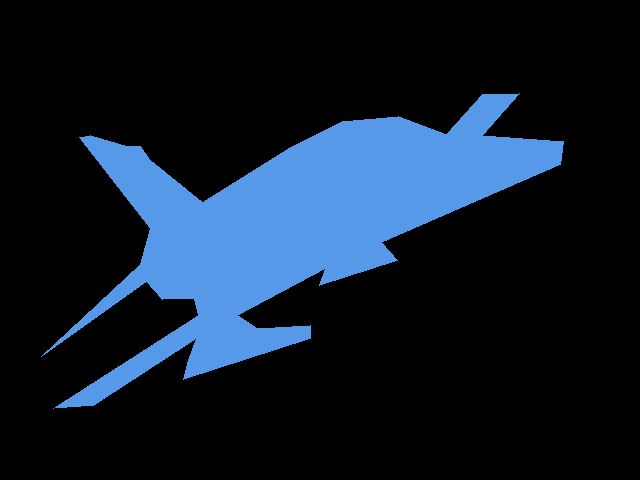Airplane: (41, 93, 564, 408)
